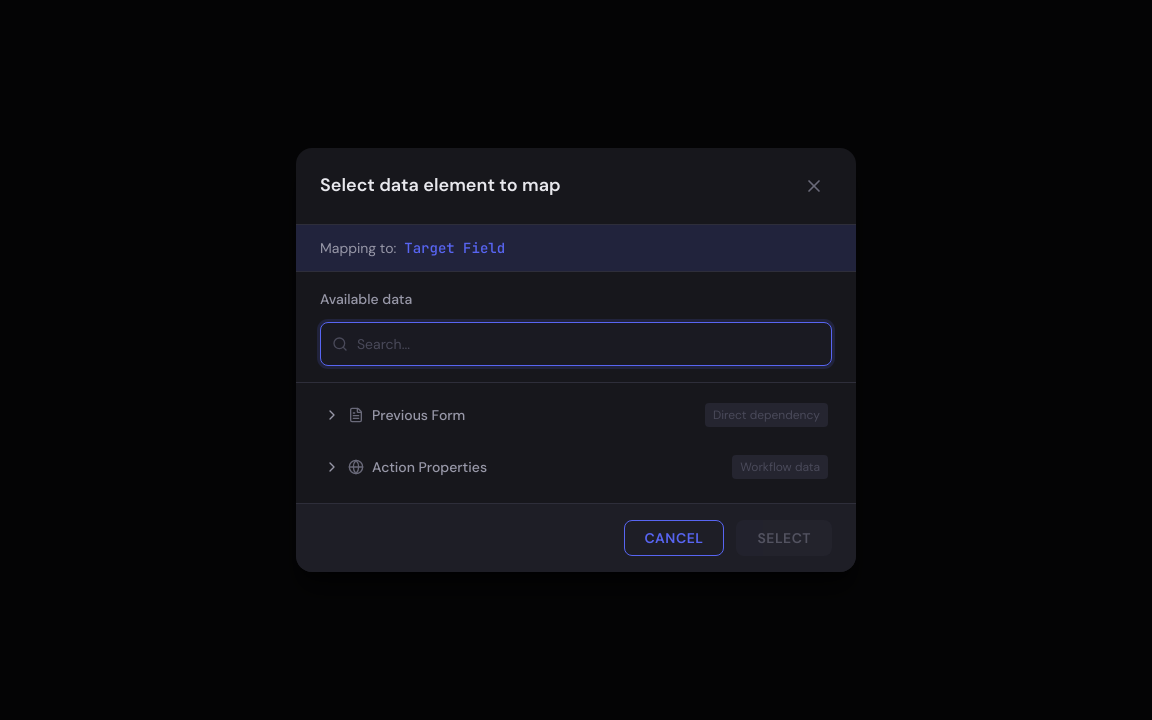
Test: DataSourceModal › group expansion › expands group when header is clicked
What coordinates should you click on to do the following:
click the button "Previous Form Direct dependency"
I would click on:
 (419, 415)
Its box is [312,391,840,439].
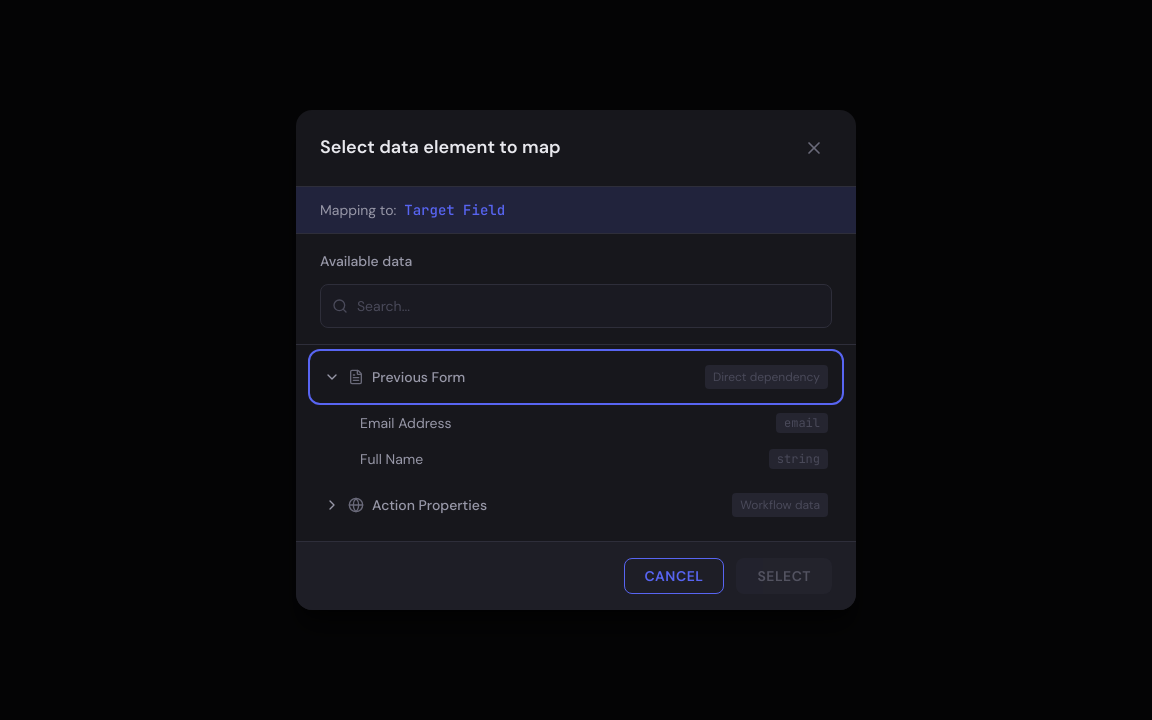
Check: the text "Email Address" is shown, box [360,414,452,432]
Check: the text "Full Name" is shown, box [360,450,423,468]
